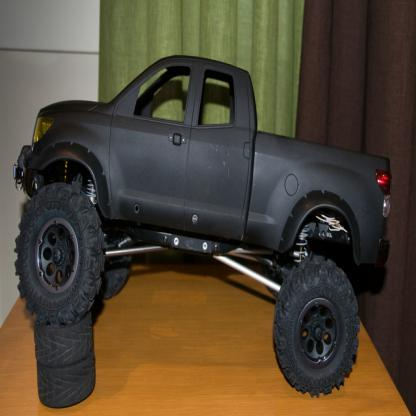Car: (13, 54, 392, 398)
Truck: (14, 55, 392, 397)
